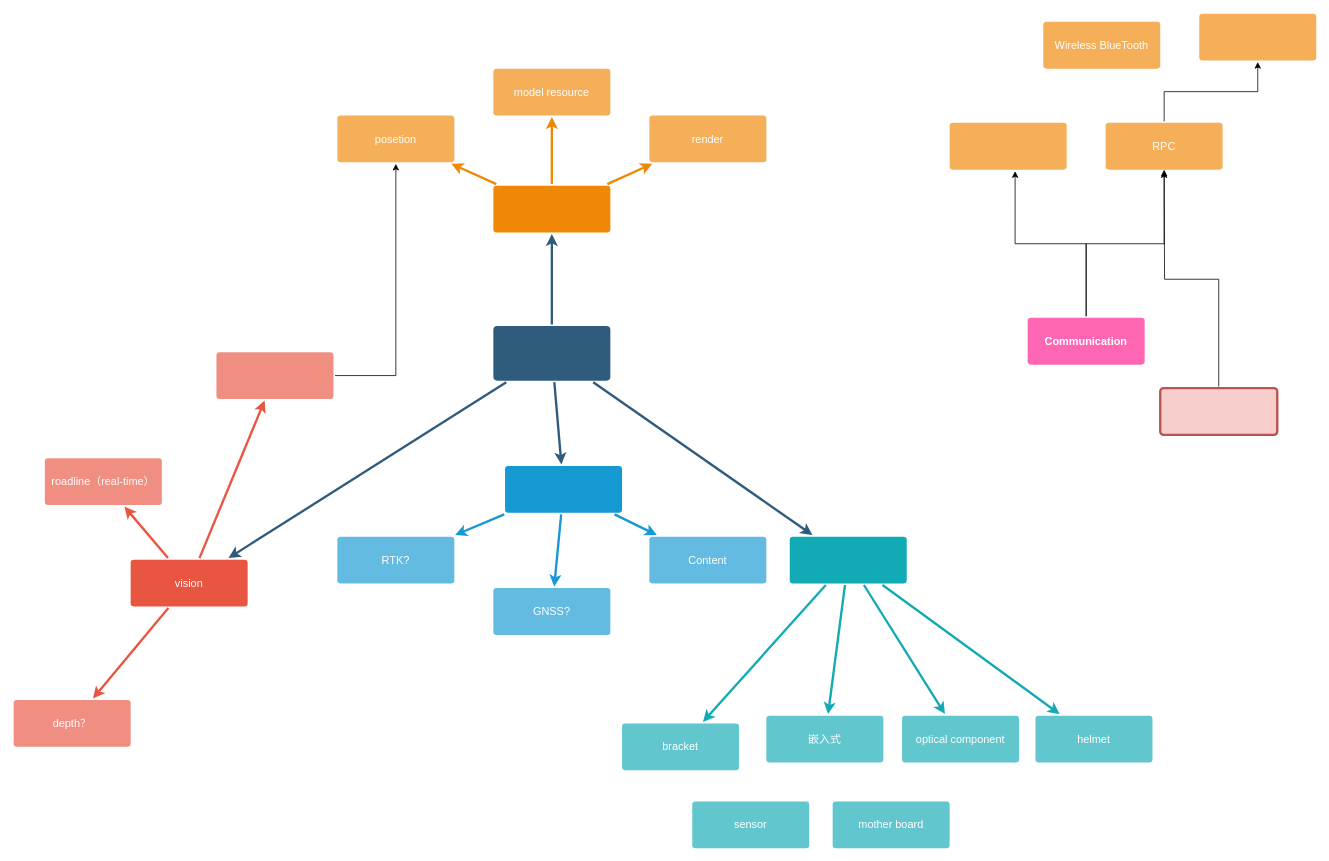
This 1329x861 diagram has some shape labels left out. The shapes that lost their labels are listed below. From the top down, each one's centre as x and y in pixels, then its label:
point 1257,36: WIFI
point 1007,145: Thread
point 551,208: AR
point 551,353: Tactical visor
point 274,375: unproj
point 1218,411: Navigation
point 563,489: Location
point 847,559: hardware
